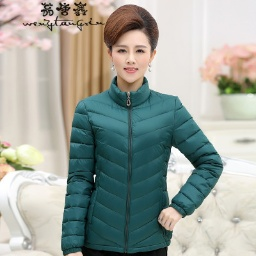face: (100, 4, 160, 86)
